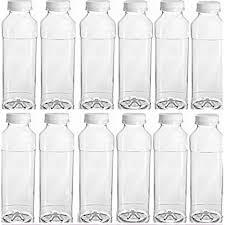Plastic bottle: (3, 7, 220, 221)
